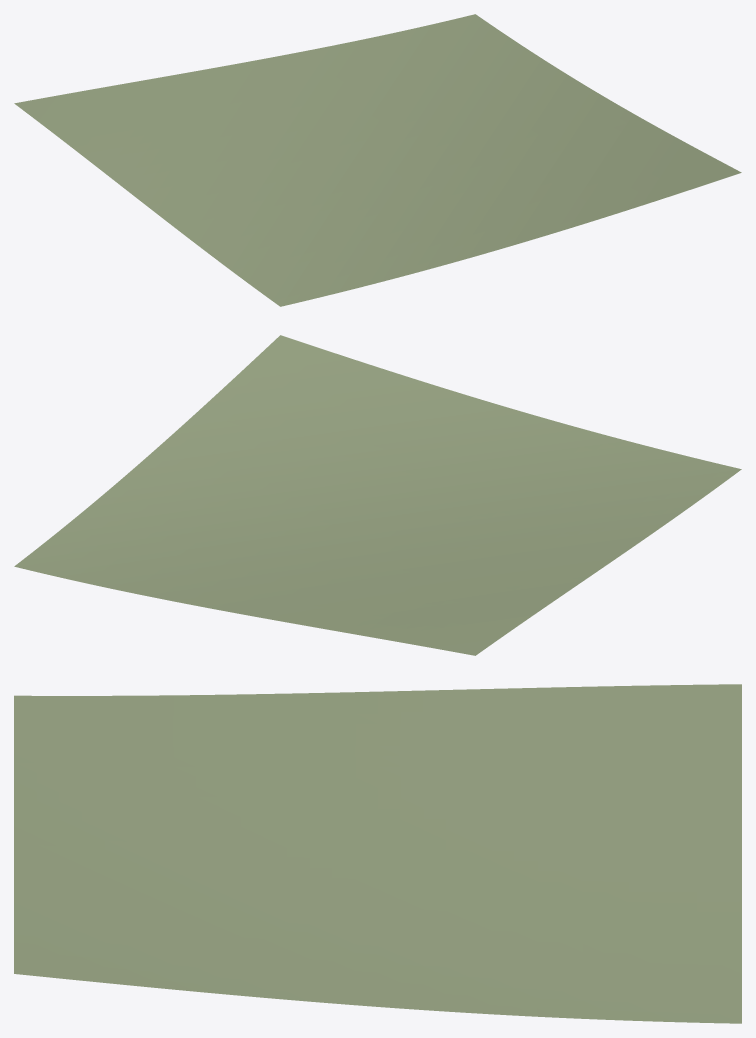
Rendered from alpine-1-7.glb.
3 views of the same model, one above another, from view 1: azimuth 30°, elevation 25°; view 2: azimuth 150°, elevation 25°; view 3: azimuth 270°, elevation 25° (orthographic). The views are drawn at different scales.
Parts seen in each view (by area): view 1: alpine-1-7; view 2: alpine-1-7; view 3: alpine-1-7.
Part boxes in pixels (bbox=[...]): alpine-1-7: bbox=[14, 14, 741, 306]; alpine-1-7: bbox=[14, 335, 741, 655]; alpine-1-7: bbox=[14, 684, 741, 1023].
Size of the model in its own units: 256 by 19.34 by 256.
